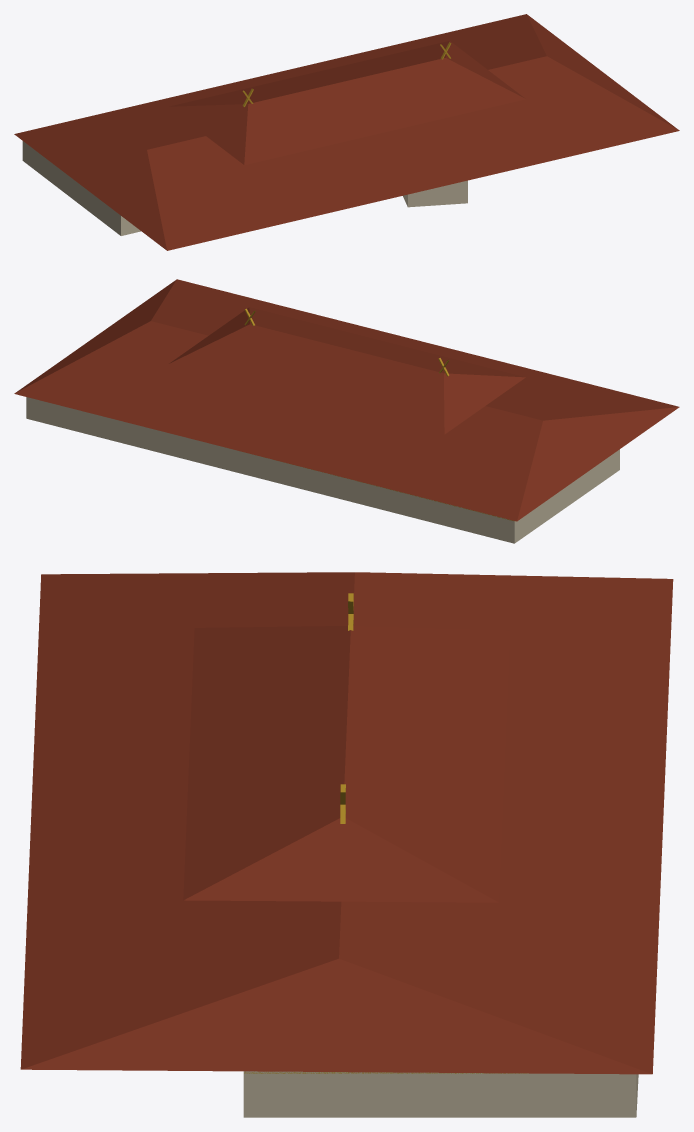
File: balai-adat-melayu-riau-lod1.glb
3 views of the same model, one above another, from view 1: azimuth 30°, elevation 25°; view 2: azimuth 150°, elevation 25°; view 3: azimuth 270°, elevation 25° (orthographic). The views are drawn at different scales.
Visible parts, largest first — view 1: balai-adat-melayu-riau_LOD1; view 2: balai-adat-melayu-riau_LOD1; view 3: balai-adat-melayu-riau_LOD1.
Part boxes in pixels (x1,y1,x2,y2): balai-adat-melayu-riau_LOD1: (14,14,679,250); balai-adat-melayu-riau_LOD1: (14,279,679,543); balai-adat-melayu-riau_LOD1: (20,572,673,1117).
Bounding box in the file's own units: 146 × 24.84 × 80.25.
